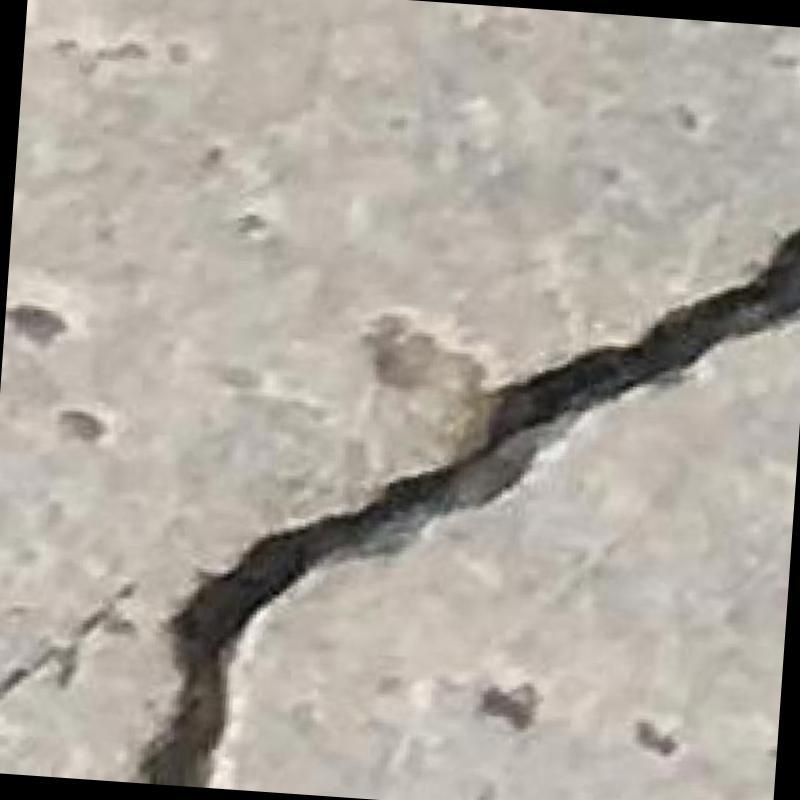crack: (139, 227, 800, 786)
